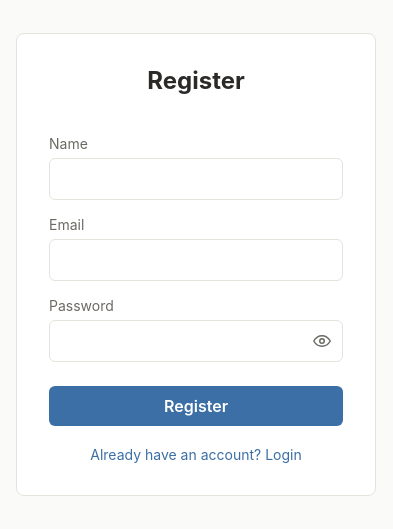
Test: RegisterPage › checks a short password before sending anything
Type "Ada Lovelace" into the field labelled "Name".
click(196, 178); type("Ada Lovelace")  # box [49,158,343,200]
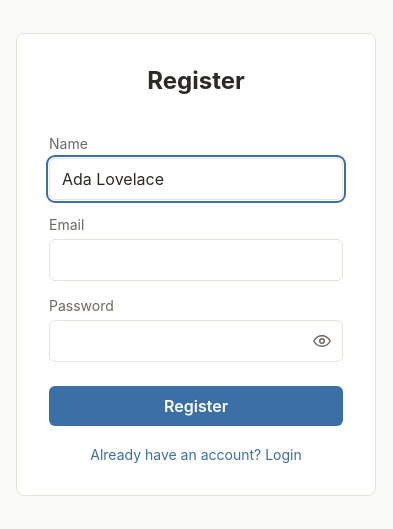
Type "ada@example.com" into the field labelled "Email".
click(196, 260); type("ada@example.com")  # box [49,238,343,280]
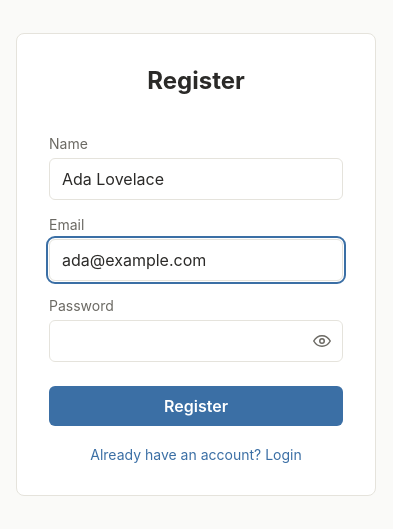
Click the password field labelled "Password".
click(196, 340)  # box [49,320,343,362]
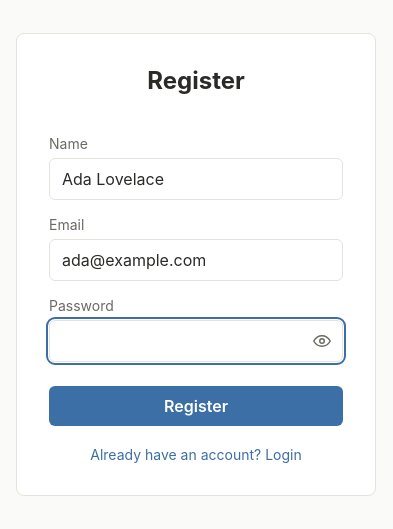
Type keys "seven77"
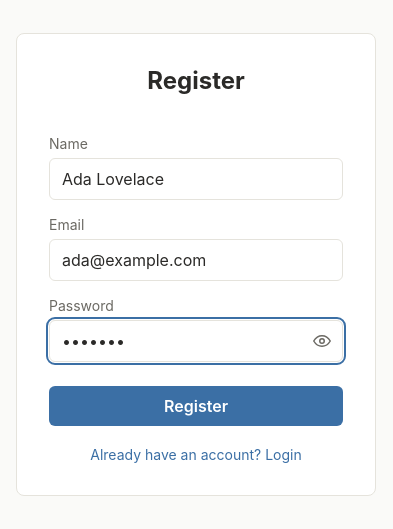
Click the button "Register".
click(196, 406)  # box [49,386,343,426]
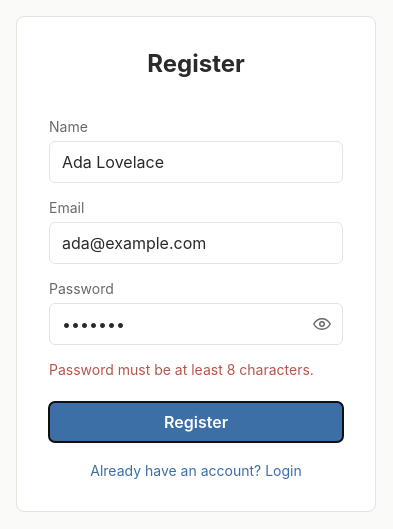
Check: the text "Password must be at least 8 characters." is shown, box [49,361,343,378]
